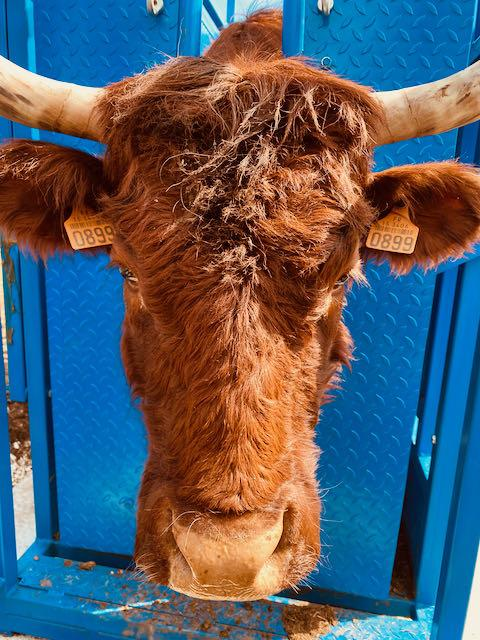muzzles: (118, 494, 341, 610)
